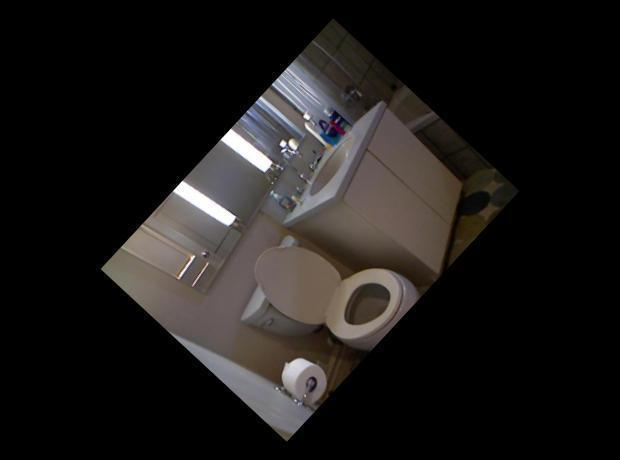Lavamanos: (262, 100, 373, 211)
Sanitario: (219, 193, 423, 398)
